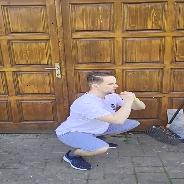squats: (42, 66, 151, 164)
